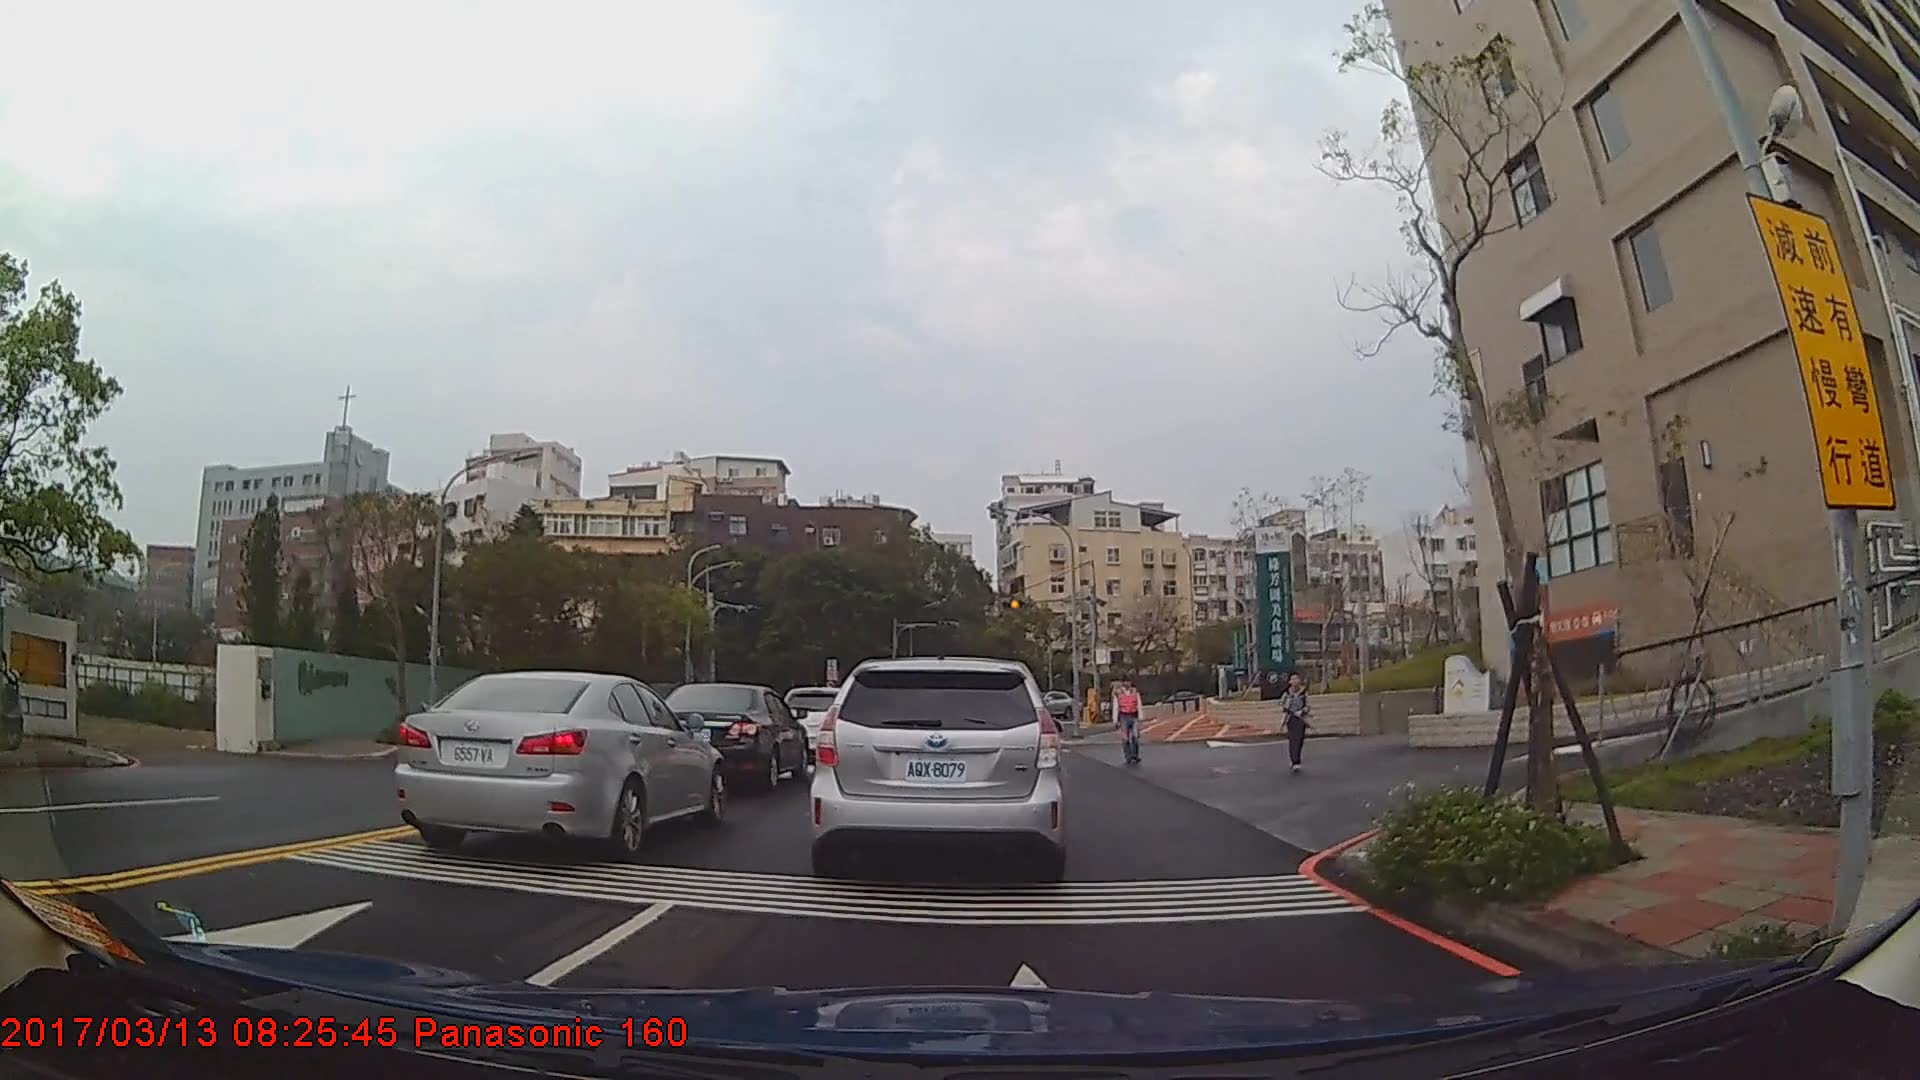pedestrian: (1282, 672, 1313, 774), (1116, 677, 1143, 768)
vehicle: (392, 670, 724, 856), (807, 654, 1067, 877), (650, 680, 809, 789)
